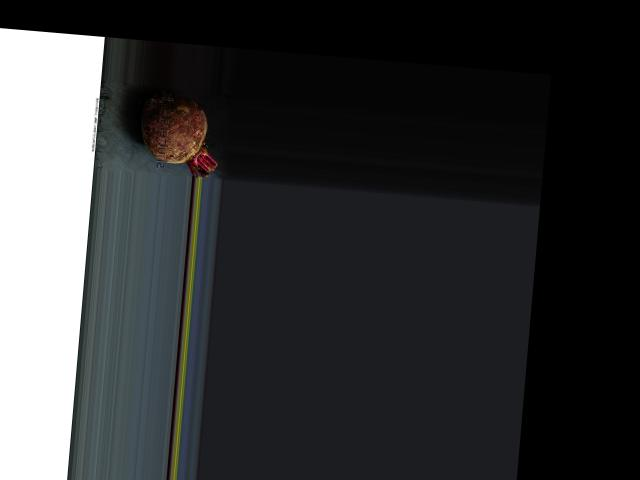beet: (136, 92, 222, 179)
